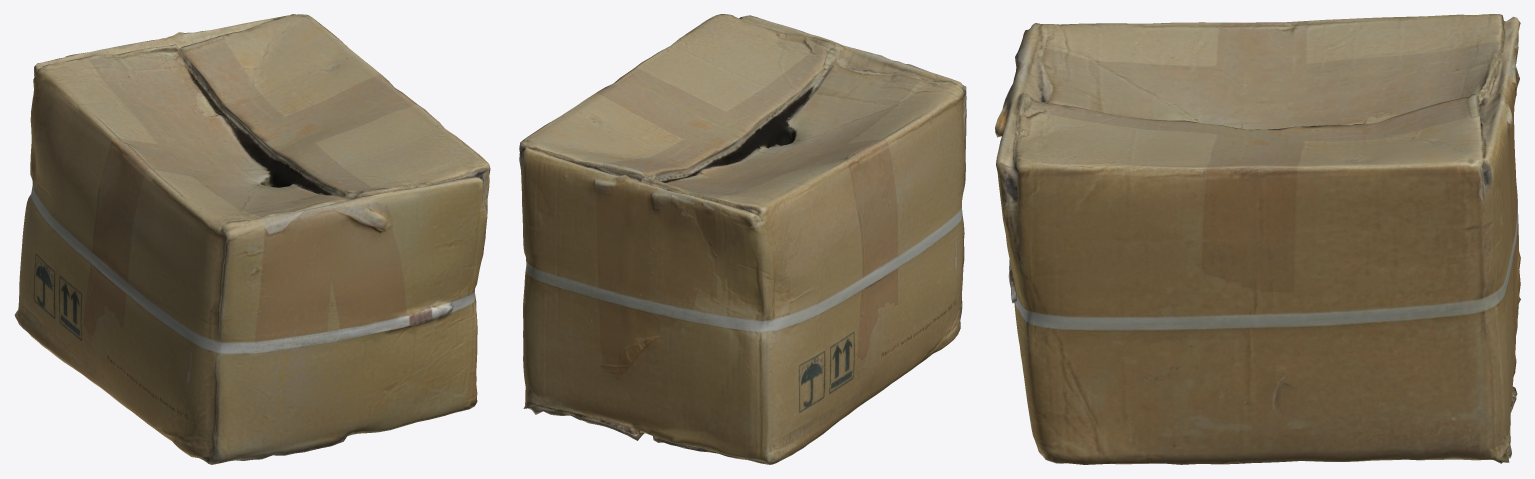
File: cardboard_box_01-1k-runtime.glb
3 renders of one model, left to right at view 1: azimuth 30°, elevation 25°; view 2: azimuth 150°, elevation 25°; view 3: azimuth 270°, elevation 25°, orthographic. The views are drawn at different scales.
Visible parts, largest first — view 1: cardboard_box_01; view 2: cardboard_box_01; view 3: cardboard_box_01.
Part boxes in pixels (<box>): cardboard_box_01: <box>14,14,490,464</box>; cardboard_box_01: <box>519,14,966,464</box>; cardboard_box_01: <box>995,14,1520,464</box>.
Size of the model in its own units: 0.387 by 0.3418 by 0.5159.
1 material, 1 textured.
